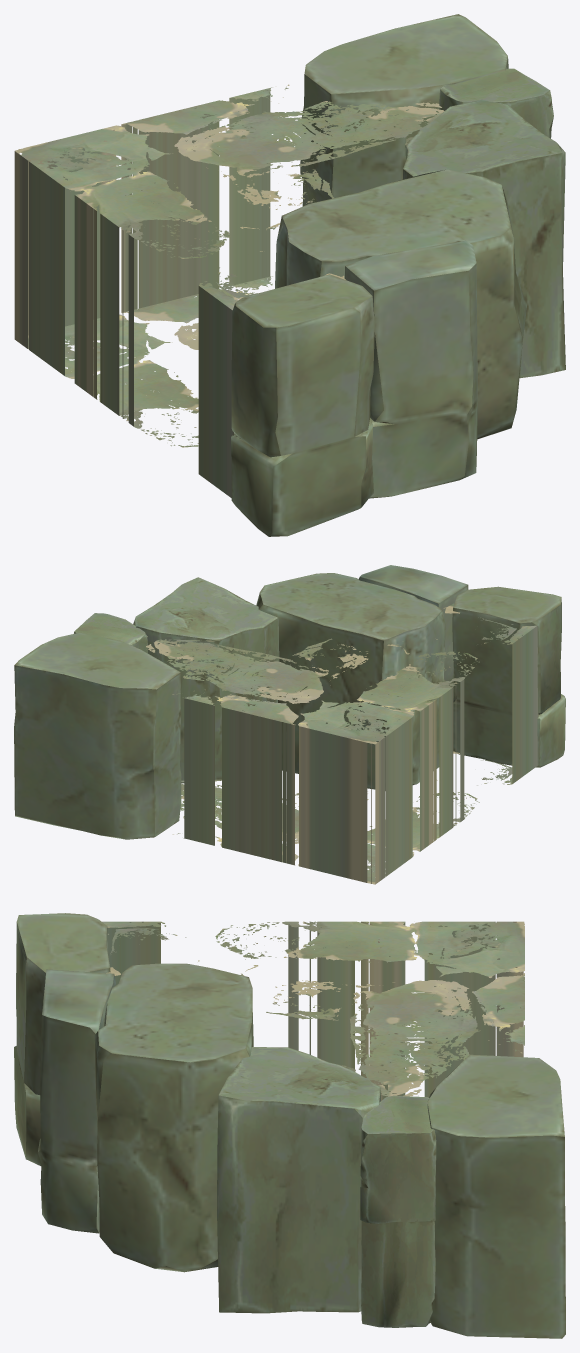
File: Ruins_Wall_DMG_Center_TopRight_A.fbx
3 views of the same model, one above another, from view 1: azimuth 30°, elevation 25°; view 2: azimuth 150°, elevation 25°; view 3: azimuth 270°, elevation 25° (orthographic). The views are drawn at different scales.
Parts seen in each view (by area): view 1: Ruins_Wall_DMG_Center_TopRight_A; view 2: Ruins_Wall_DMG_Center_TopRight_A; view 3: Ruins_Wall_DMG_Center_TopRight_A.
Part boxes in pixels (x1,y1,x2,y2): Ruins_Wall_DMG_Center_TopRight_A: (14, 14, 565, 536); Ruins_Wall_DMG_Center_TopRight_A: (14, 565, 565, 884); Ruins_Wall_DMG_Center_TopRight_A: (14, 913, 565, 1338).
Size of the model in its own units: 651 by 290 by 672.
